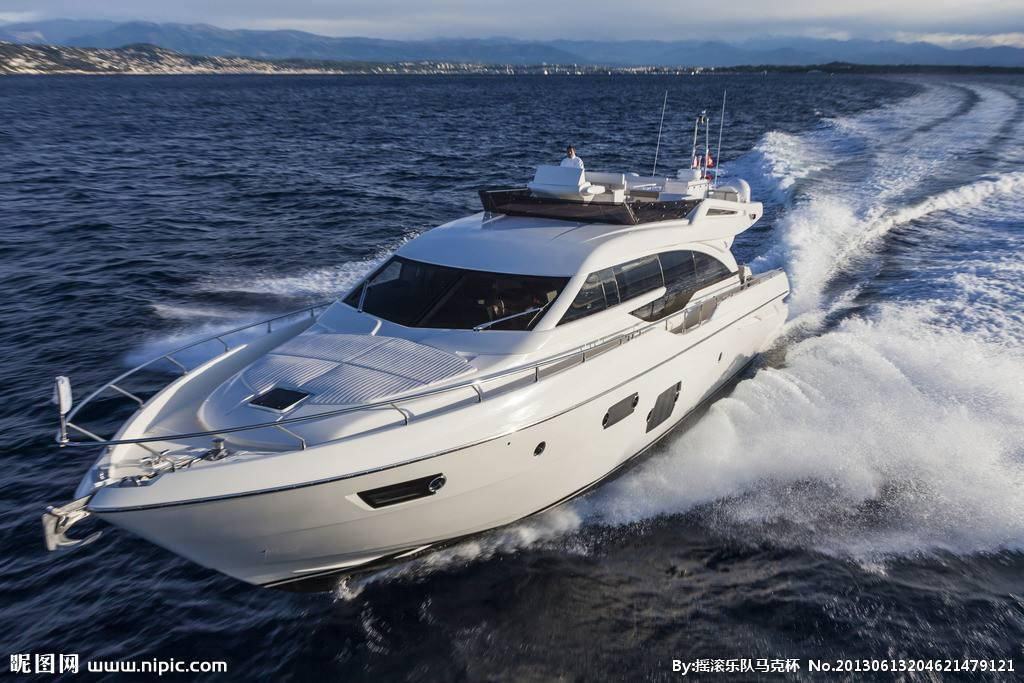yacht: (46, 118, 795, 592)
